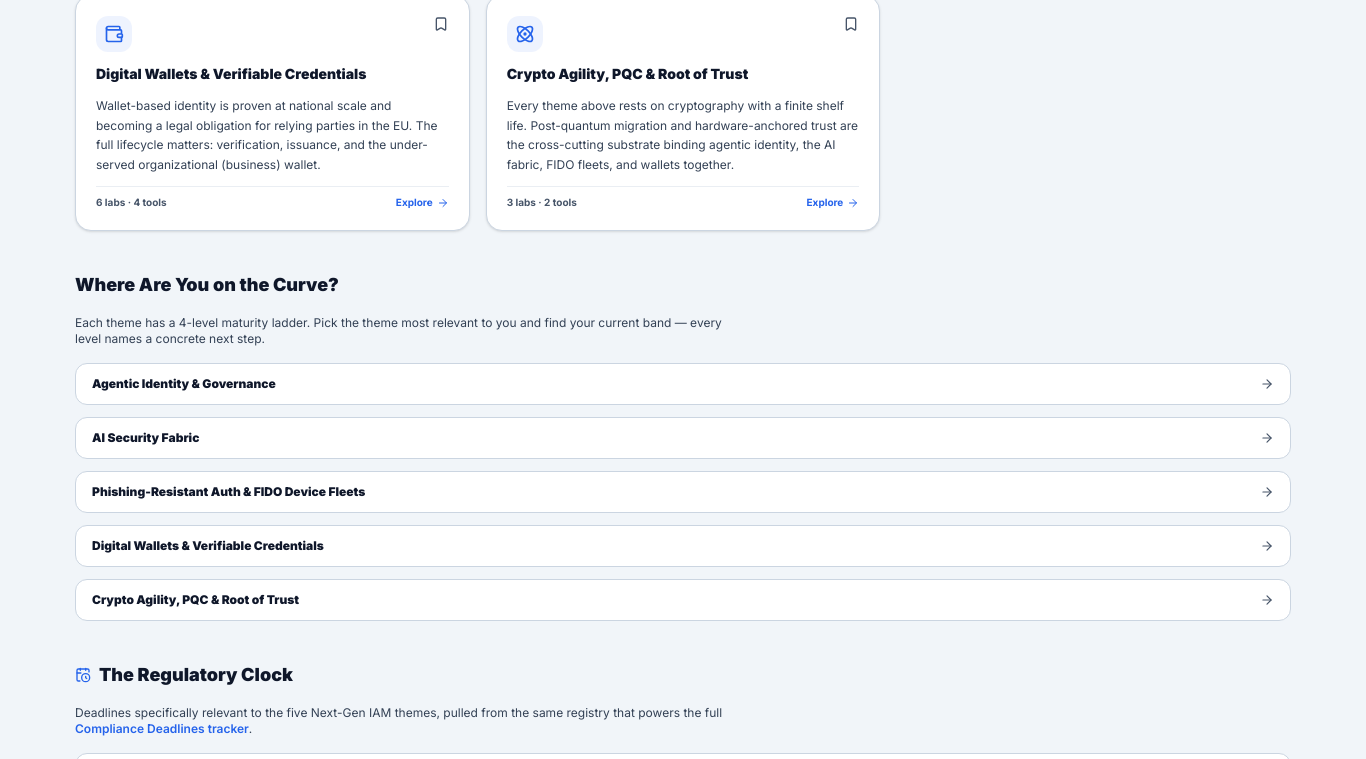
Test case: NextGenIamCenter page › expands a maturity ladder to show all 4 bands
(page scrolled)
Step 1. Click the heading "Agentic Identity & Governance" → [184, 384], box [92, 376, 1274, 391]
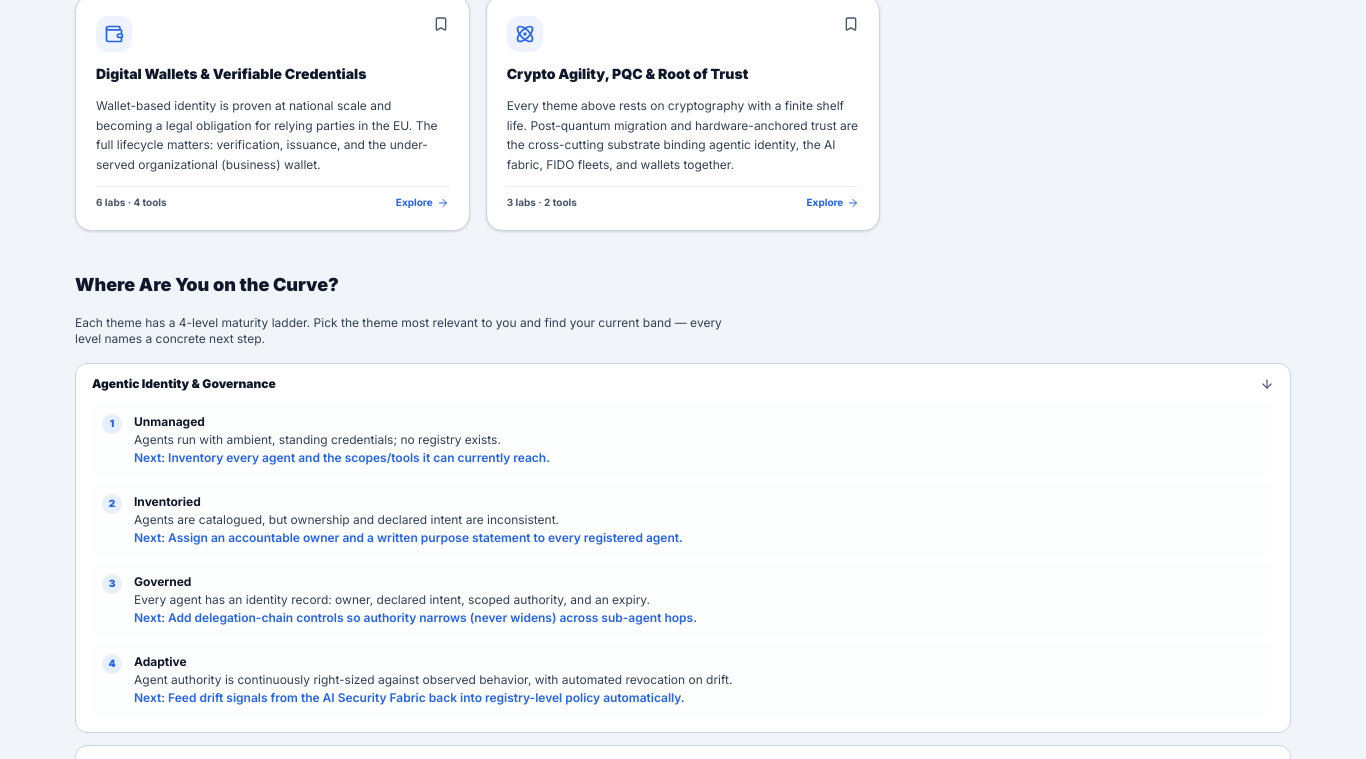
Result: the text "Unmanaged" is shown at [134, 414, 205, 429]
Result: the text "Inventoried" is shown at [134, 494, 201, 509]
Result: the text "Governed" is shown at [134, 574, 191, 589]
